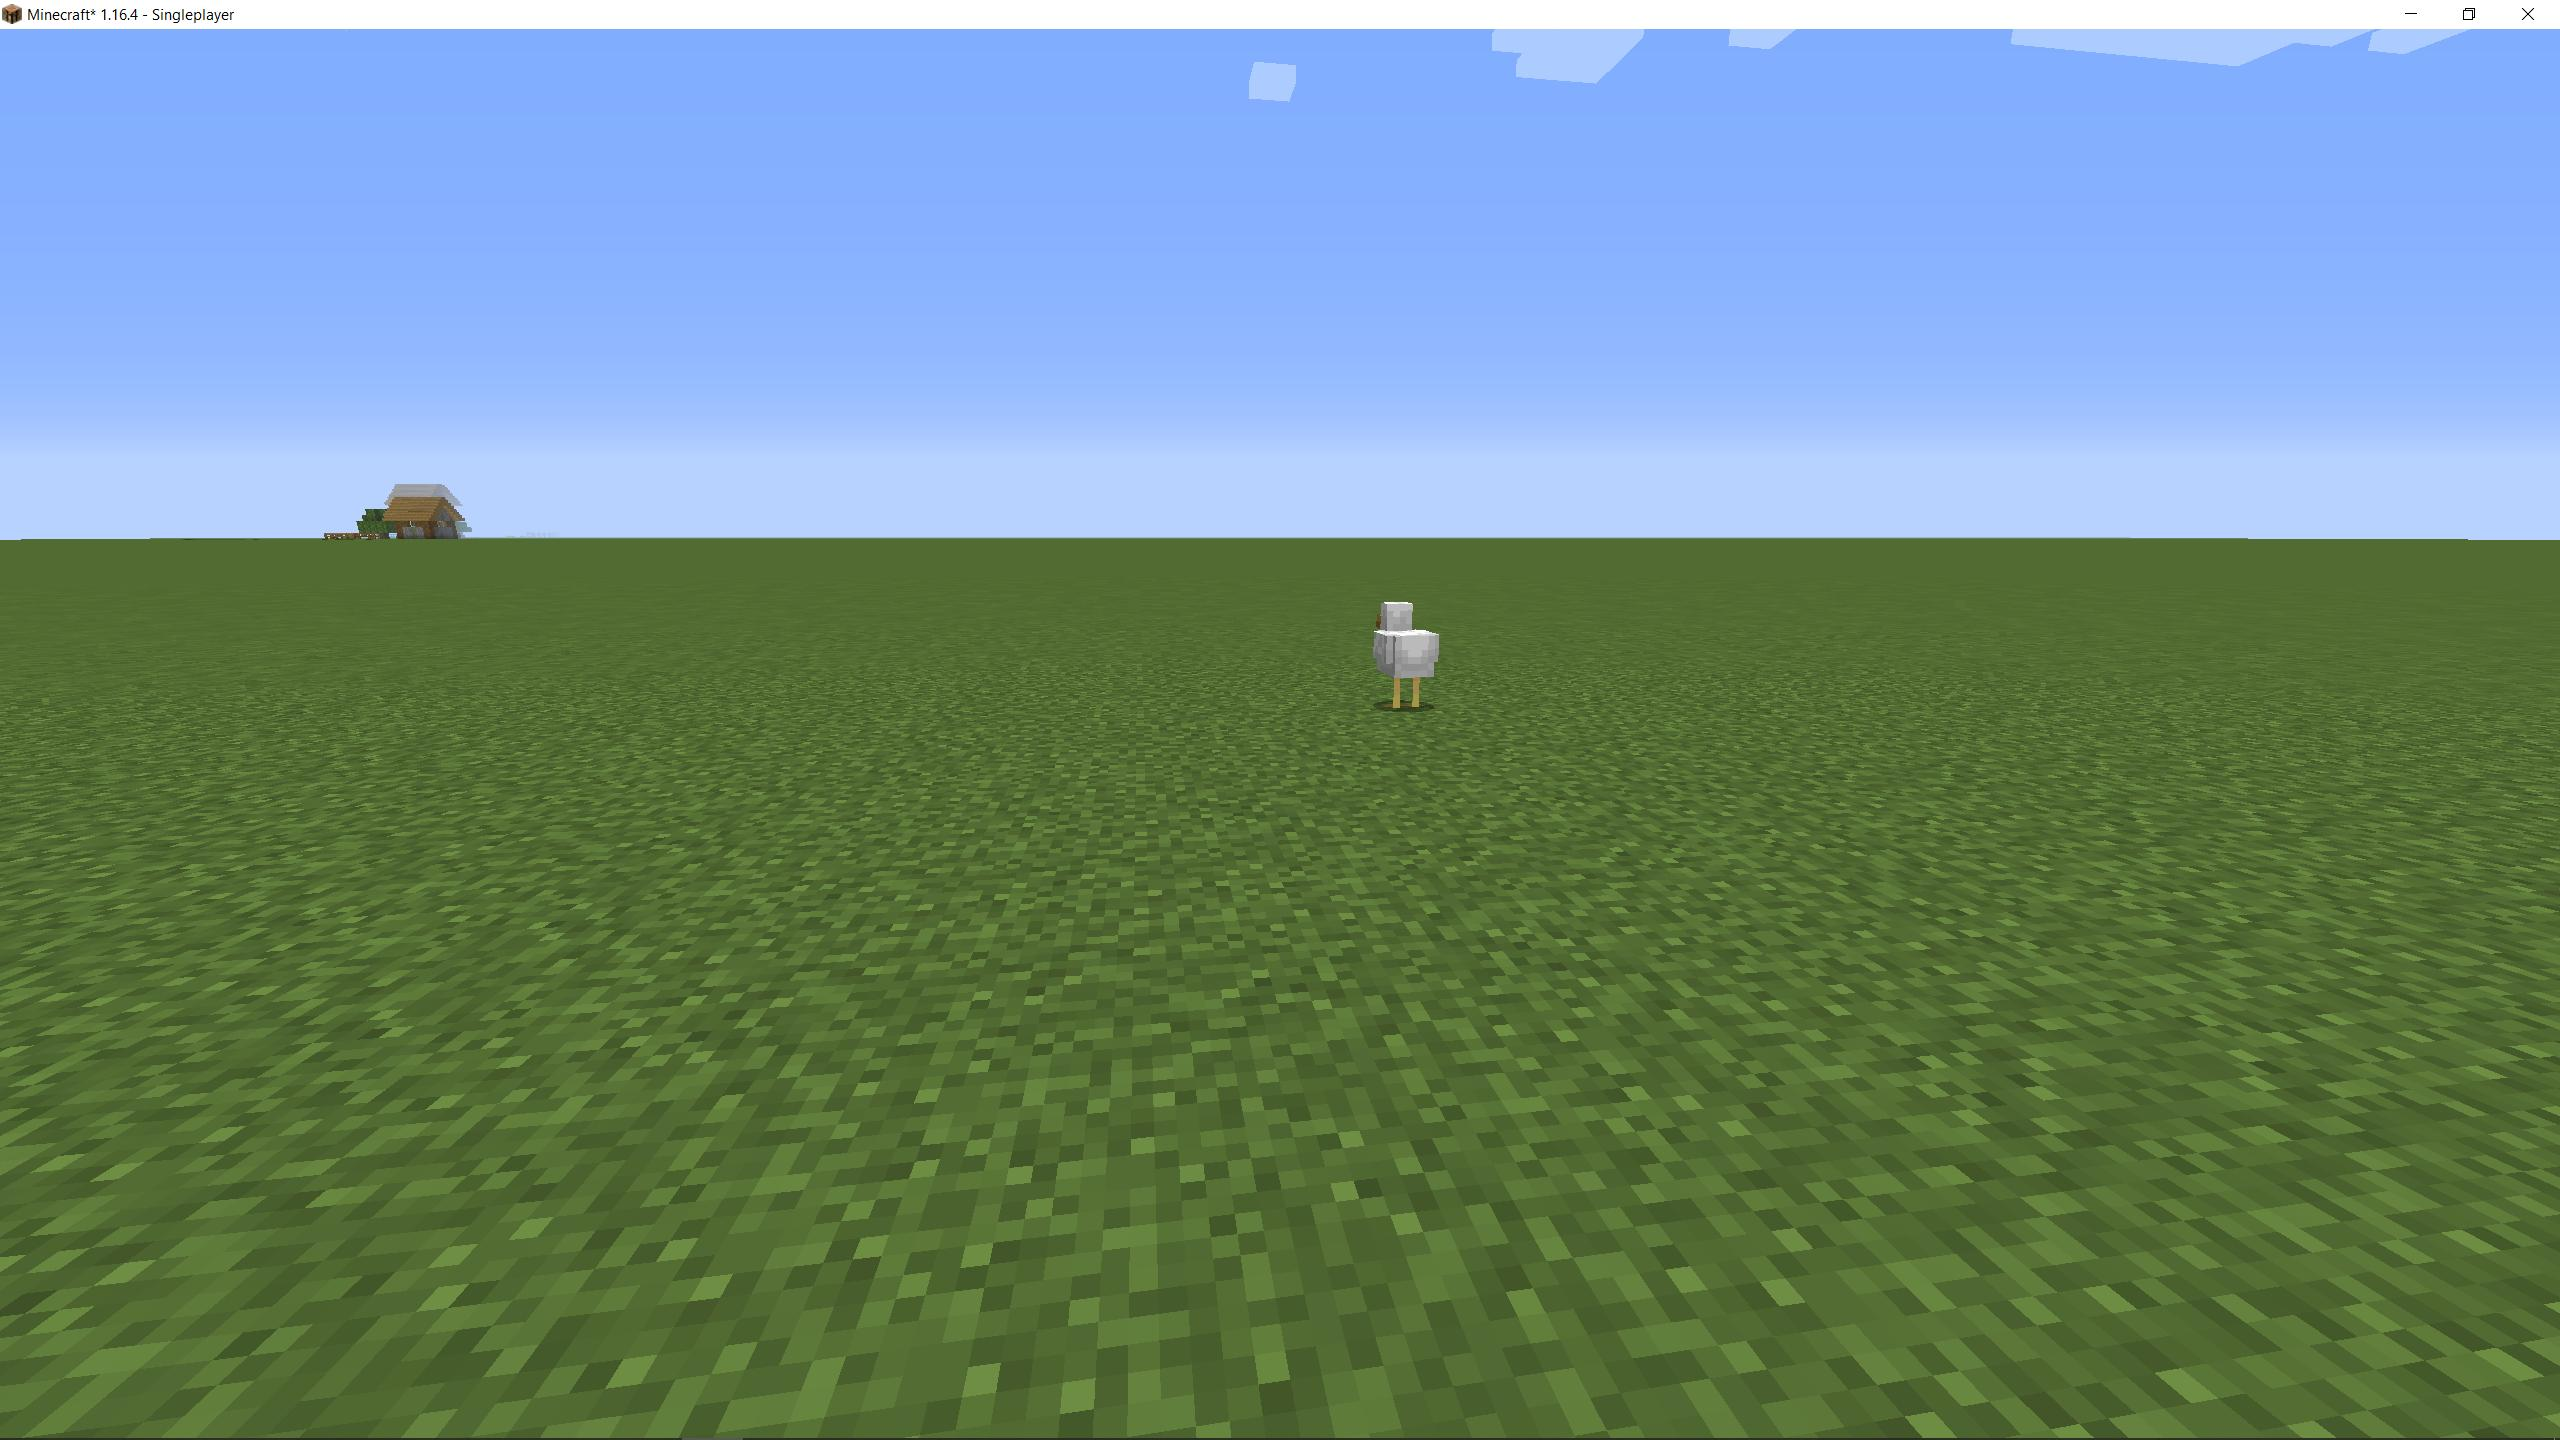chicken: (1366, 596, 1444, 716)
